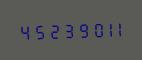five: (30, 21, 42, 40)
four: (17, 21, 29, 41)
nine: (69, 20, 81, 39)
one: (108, 18, 120, 38), (95, 19, 107, 38)
three: (56, 20, 68, 40)
two: (43, 20, 55, 40)
zero: (82, 19, 94, 39)
